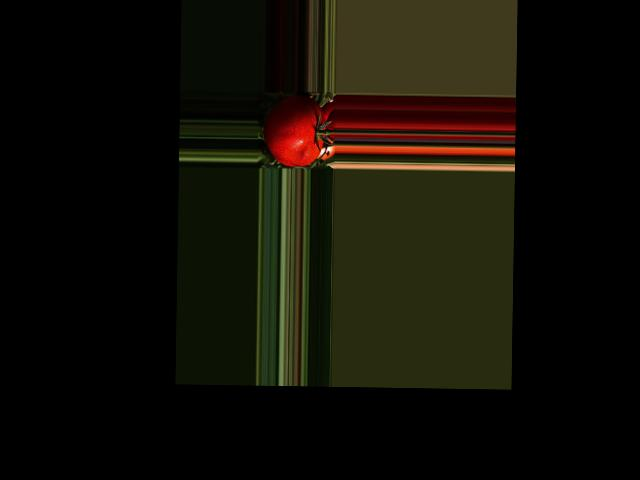tomato: (263, 95, 325, 167)
